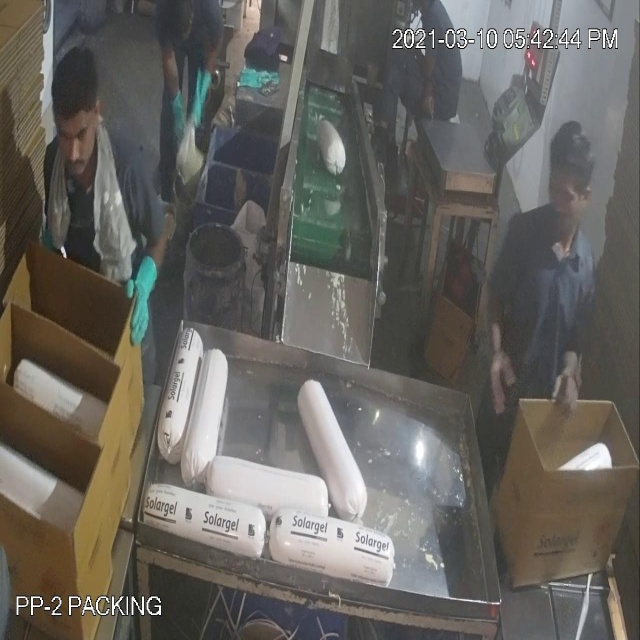Guantes: (118, 238, 161, 356)
Sin_guantes: (478, 270, 516, 427), (546, 321, 589, 425)
